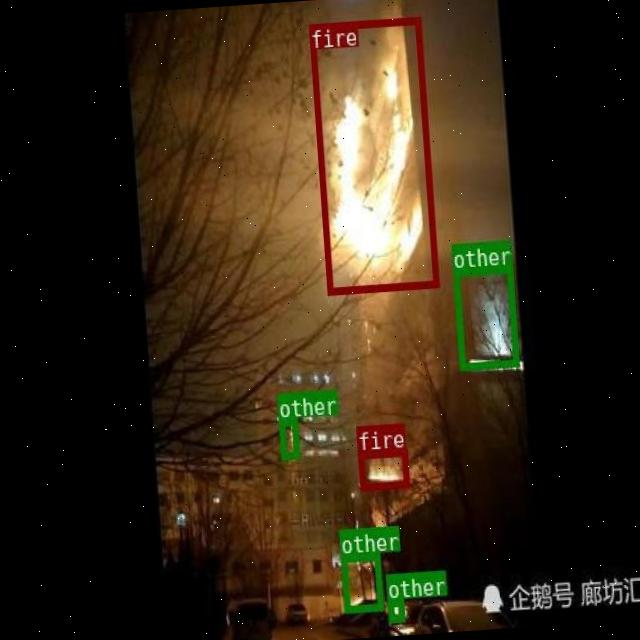fire: (308, 17, 438, 294), (356, 448, 408, 488)
